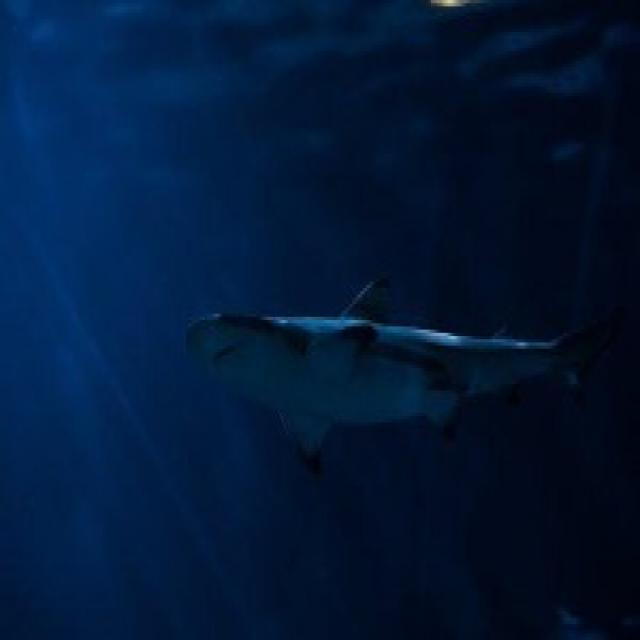Shark: (185, 262, 584, 476)
